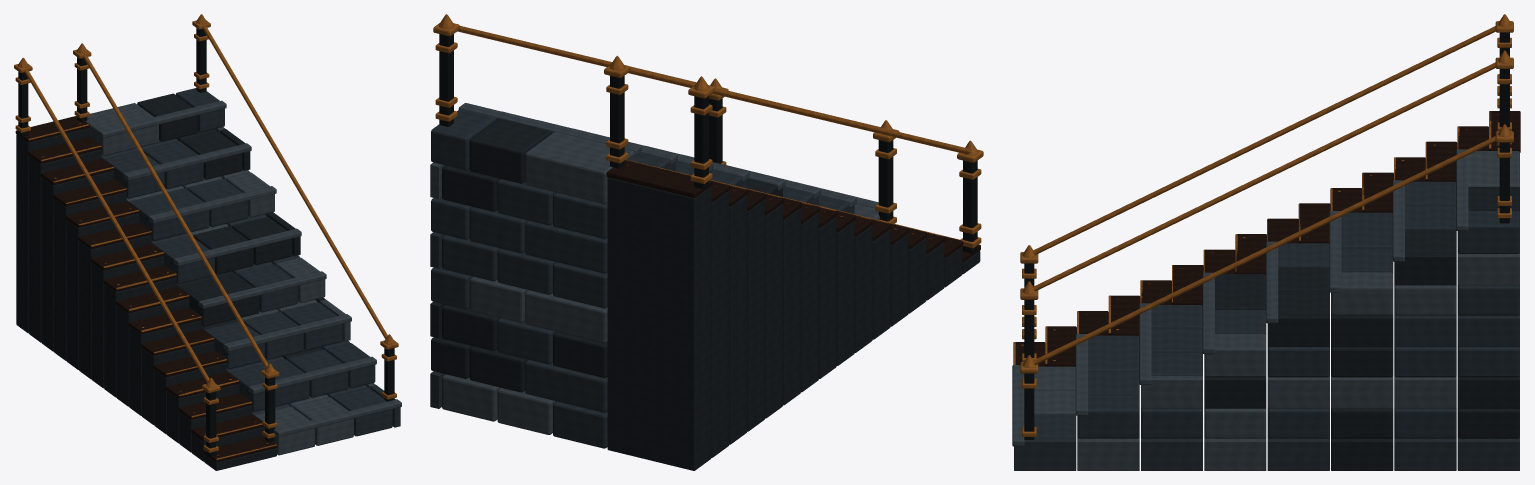
The model's file is stairs_paired.fbx.
3 renders of one model, left to right at view 1: azimuth 30°, elevation 25°; view 2: azimuth 150°, elevation 25°; view 3: azimuth 270°, elevation 25°, orthographic. The views are drawn at different scales.
Visible parts, largest first — view 1: stairs_paired_stair_mass, stairs_paired_overlay_support, stairs_paired_overlay_treads, stairs_paired_treads, stairs_paired_ironwork, stairs_paired_structure, stairs_paired_posts; view 2: stairs_paired_overlay_support, stairs_paired_stair_mass, stairs_paired_structure, stairs_paired_overlay_treads, stairs_paired_ironwork, stairs_paired_treads, stairs_paired_posts; view 3: stairs_paired_stair_mass, stairs_paired_overlay_treads, stairs_paired_ironwork, stairs_paired_treads, stairs_paired_structure, stairs_paired_posts.
Boxes of the visible parts, x1,y1,x2,y2 form: stairs_paired_stair_mass: (85, 88, 400, 455); stairs_paired_overlay_support: (16, 128, 276, 470); stairs_paired_overlay_treads: (15, 116, 277, 462); stairs_paired_treads: (98, 100, 401, 436); stairs_paired_ironwork: (18, 14, 394, 387); stairs_paired_structure: (15, 28, 396, 456); stairs_paired_posts: (14, 20, 398, 393); stairs_paired_overlay_support: (607, 177, 980, 470); stairs_paired_stair_mass: (430, 109, 879, 448); stairs_paired_structure: (435, 34, 981, 253); stairs_paired_overlay_treads: (606, 159, 980, 262); stairs_paired_ironwork: (439, 14, 977, 155); stairs_paired_treads: (458, 103, 878, 208); stairs_paired_posts: (433, 23, 983, 162); stairs_paired_stair_mass: (1014, 151, 1519, 470); stairs_paired_overlay_treads: (1013, 111, 1520, 366); stairs_paired_ironwork: (1022, 14, 1511, 367); stairs_paired_treads: (1012, 149, 1468, 446); stairs_paired_structure: (1022, 32, 1511, 439); stairs_paired_posts: (1020, 21, 1513, 373).
Size of the model in its own units: 246 by 335 by 449.
6 materials, 6 textured.
